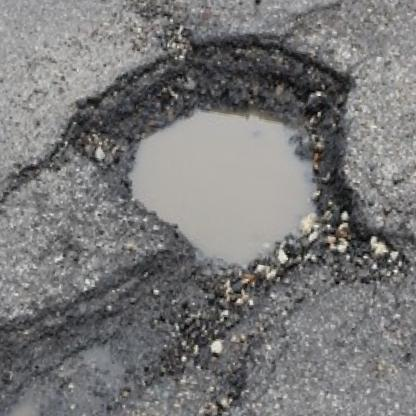pothole: (55, 18, 391, 289)
